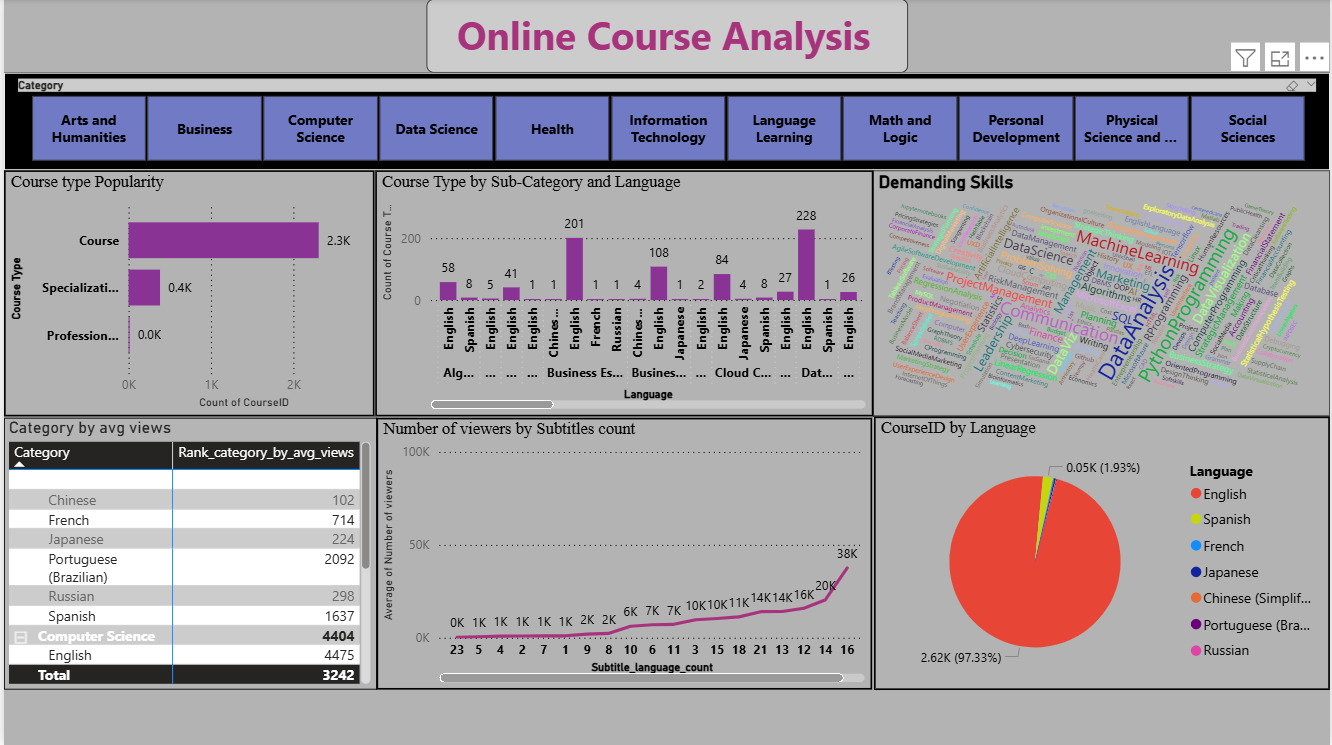

The dashboard page shown, as its layout file describes it:
{"tool":"powerbi","page":{"name":"Page 1","canvas":[1280,720],"ordinal":0},"visuals":[{"type":"textbox","box":[407.9,0,464.6,71.6],"z":0},{"type":"slicer","fields":{"Values":["Online_Courses.Category"]},"box":[0,71.6,1280.3,93.2],"z":1000},{"type":"barChart","title":"Course type Popularity","fields":{"Y":["CountNonNull(Online_Courses.CourseID)"],"Category":["Online_Courses.Course Type"]},"box":[0,164.8,357.9,237.7],"z":2000},{"type":"columnChart","title":"Course Type by Sub-Category and Language","fields":{"Category":["Online_Courses.Sub-Category","Online_Courses.Language"],"Y":["CountNonNull(Online_Courses.Course Type)"]},"box":[357.9,164.8,480.8,237.7],"z":3000},{"type":"WordCloud1447959067750","title":"Demanding Skills","fields":{"Category":["Online_Courses.Skills"]},"box":[838.7,164.8,441.6,237.7],"z":4000},{"type":"pieChart","title":"CourseID by Language","fields":{"Y":["CountNonNull(Online_Courses.CourseID)"],"Category":["Online_Courses.Language"]},"box":[840,402.7,440,264],"z":5000},{"type":"pivotTable","title":"Category by avg views","fields":{"Rows":["Online_Courses.Category","Online_Courses.Language"],"Values":["Online_Courses.Rank_category_by_avg_views"]},"box":[0,404,360,262.7],"z":6000},{"type":"lineChart","title":" Number of viewers by Subtitles count","fields":{"Category":["Online_Courses.Subtitle_language_count"],"Y":["Avg(Online_Courses.Number of viewers)"]},"box":[360,404,478.7,262.7],"z":7000}]}

Visuals, with their boxes in screenshot pixels (x1, y1, x2, y2):
textbox: locate(427, 0, 902, 73)
slicer - Online_Courses.Category: locate(10, 73, 1318, 168)
"Course type Popularity" barChart: locate(10, 168, 376, 411)
"Course Type by Sub-Category and Language" columnChart: locate(376, 168, 867, 411)
"Demanding Skills" WordCloud1447959067750: locate(867, 168, 1318, 411)
"CourseID by Language" pieChart: locate(868, 411, 1318, 681)
"Category by avg views" pivotTable: locate(10, 413, 378, 681)
" Number of viewers by Subtitles count" lineChart: locate(378, 413, 867, 681)
